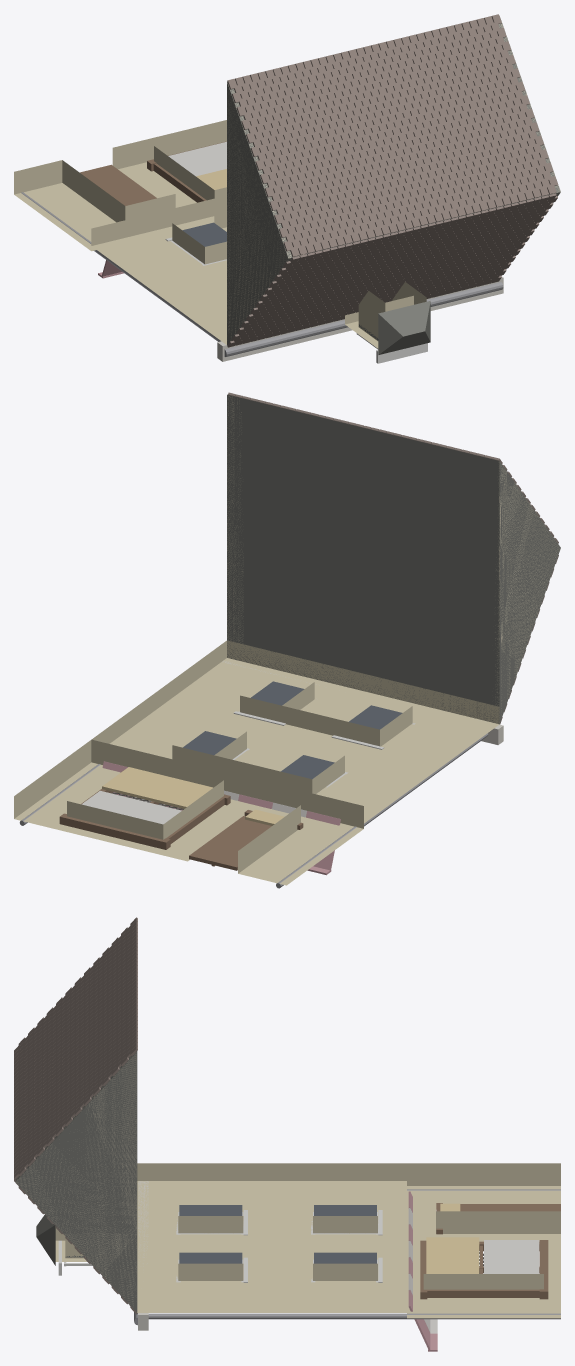
File: bohrer_measured.glb
The picture shows the model from 3 angles, top to bottom: view 1: azimuth 30°, elevation 25°; view 2: azimuth 150°, elevation 25°; view 3: azimuth 270°, elevation 25°; orthographic projection.
Parts seen in each view (by area): view 1: dachziegel, eg_sockel, fassade, dach, giebel, rinne, gaube_dach, schaufenster, gaube, gesims, gardine, fenster (+1 smaller); view 2: dach, fassade, eg_sockel, giebel, schaufenster, fenster, warmlicht, gardine, dachziegel, markise_rot, rinne; view 3: fassade, eg_sockel, dachziegel, dach, giebel, fenster, schaufenster, rinne, warmlicht, gardine, rahmen, markise_rot (+3 smaller).
Boxes of the visible parts, <box> form: dachziegel: <box>227,14,557,347</box>; eg_sockel: <box>14,120,226,251</box>; fassade: <box>91,195,226,344</box>; dach: <box>227,18,560,345</box>; giebel: <box>227,24,560,340</box>; rinne: <box>21,192,503,356</box>; gaube_dach: <box>378,301,430,354</box>; schaufenster: <box>80,141,226,221</box>; gaube: <box>345,282,426,348</box>; gesims: <box>217,276,503,361</box>; gardine: <box>168,141,226,176</box>; fenster: <box>182,222,378,339</box>; dach: <box>227,394,560,723</box>; fassade: <box>92,640,499,823</box>; eg_sockel: <box>14,739,363,885</box>; giebel: <box>227,395,559,714</box>; schaufenster: <box>59,770,303,870</box>; fenster: <box>183,681,402,779</box>; warmlicht: <box>102,767,284,825</box>; gardine: <box>81,790,181,824</box>; dachziegel: <box>228,392,558,724</box>; markise_rot: <box>102,761,340,875</box>; rinne: <box>19,733,488,888</box>; fassade: <box>137,1163,406,1312</box>; eg_sockel: <box>407,1163,560,1318</box>; dachziegel: <box>14,917,137,1314</box>; dach: <box>15,1051,137,1312</box>; giebel: <box>16,1052,136,1305</box>; fenster: <box>65,1205,376,1263</box>; schaufenster: <box>420,1203,560,1299</box>; rinne: <box>134,1189,560,1325</box>; warmlicht: <box>426,1203,479,1273</box>; gardine: <box>484,1240,539,1273</box>; rahmen: <box>58,1210,382,1282</box>; markise_rot: <box>408,1191,437,1351</box>.
Bounding box in the file's own units: 6.7 × 7.09 × 11.37.
